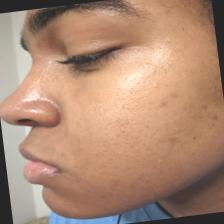Oily: (8, 0, 224, 214)
